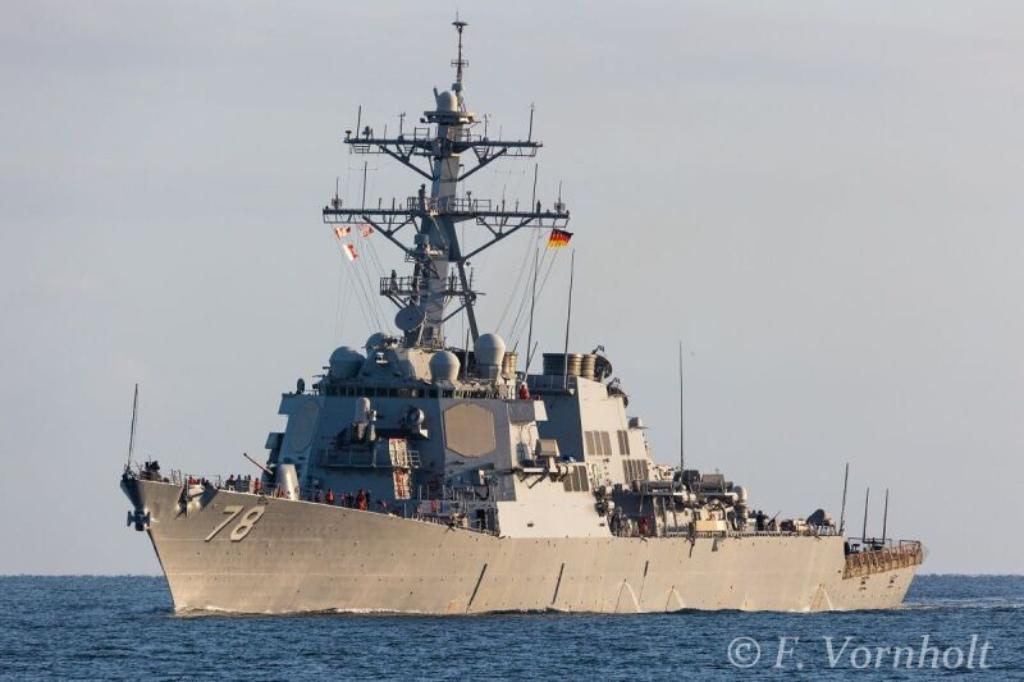Warship: (119, 11, 929, 616)
